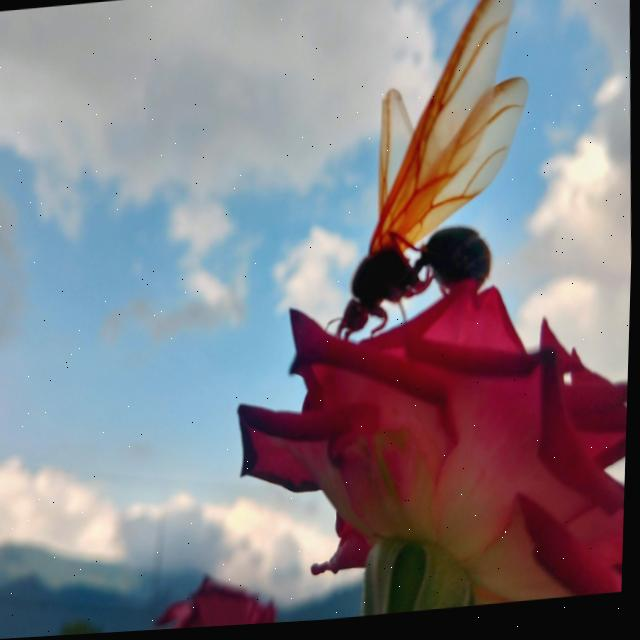Alive-Female-Alate: (314, 0, 540, 350)
